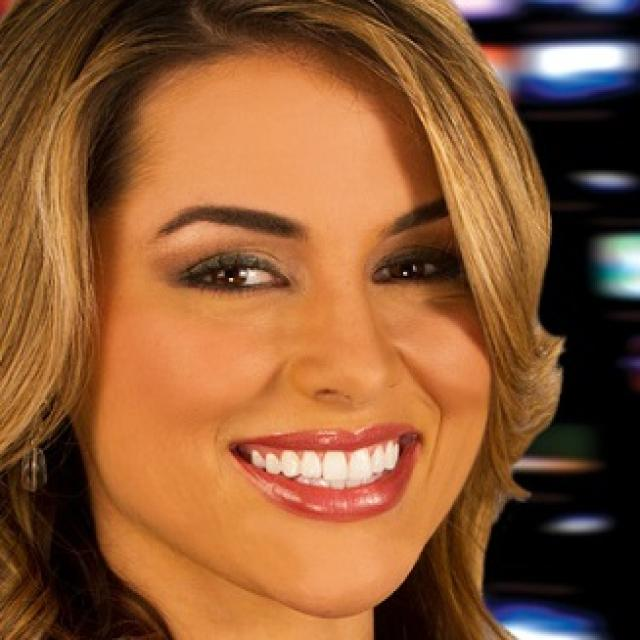Normal: (78, 44, 496, 618)
